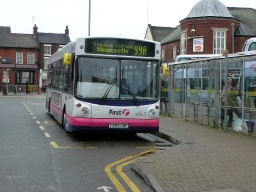bus: (44, 35, 166, 141)
